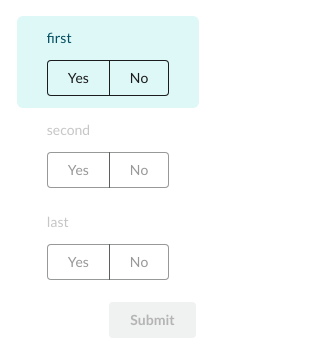
AnsweringChecks Component › Answering with No should enable submit button
The image size is (320, 355).
Expected: the button "Submit" is disabled, [109, 302, 196, 338]
Click the button "No" below "first": (139,78) [109, 60, 169, 96]
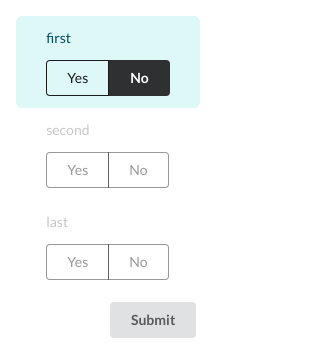
Result: the button "Submit" is enabled at [110, 302, 196, 338]
